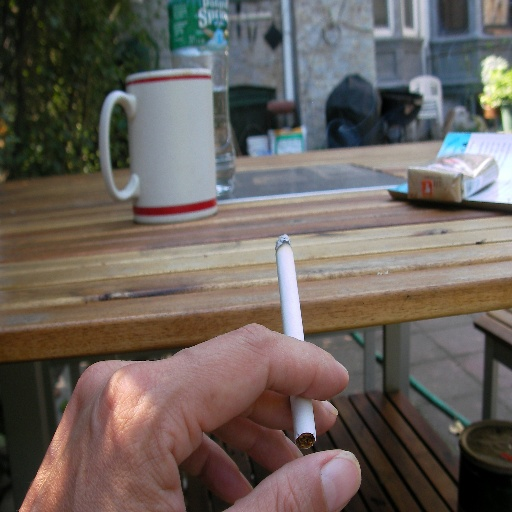hand: (0, 319, 353, 512)
